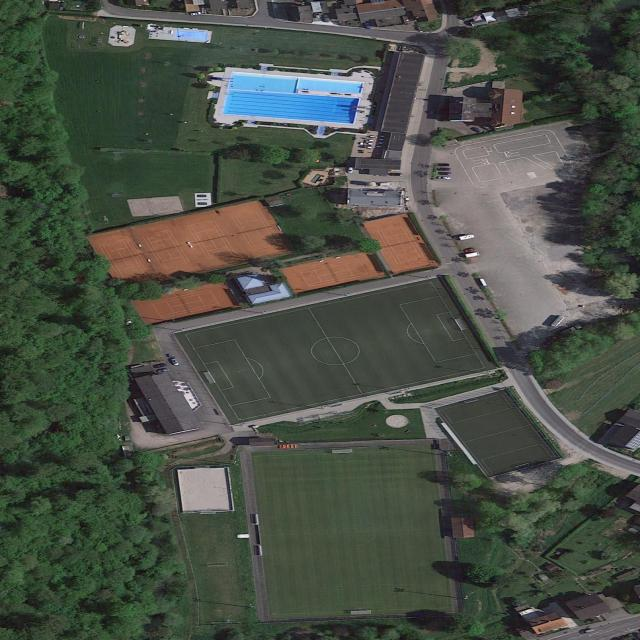small-vehicle: (469, 126, 485, 134), (579, 628, 595, 634), (463, 252, 479, 258), (153, 363, 167, 369), (458, 235, 473, 240), (157, 367, 169, 373), (363, 22, 372, 29), (463, 248, 475, 253), (171, 358, 179, 365), (436, 163, 450, 167), (314, 12, 321, 19), (438, 176, 450, 180), (438, 167, 450, 171), (323, 14, 329, 22), (190, 12, 201, 16), (348, 168, 354, 174), (440, 172, 452, 175), (392, 173, 402, 176)
